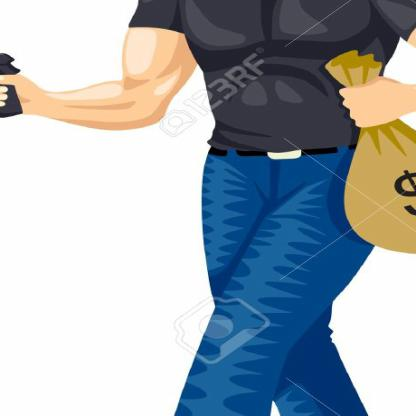gun: (0, 30, 39, 136)
